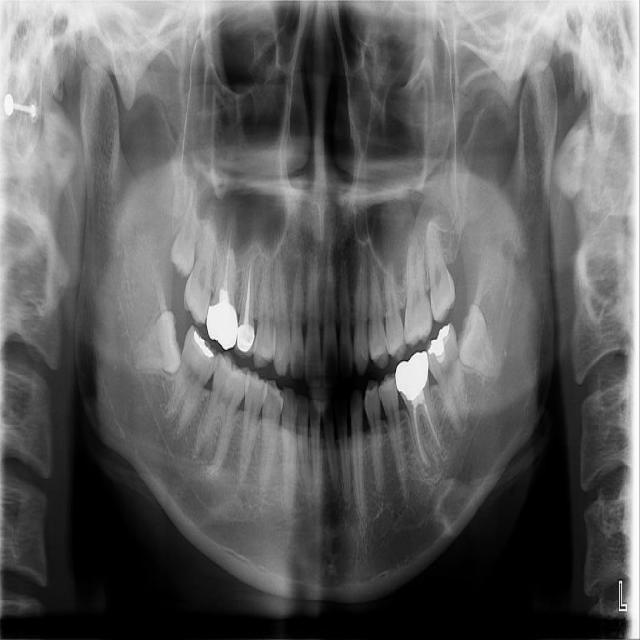3M ESPE Implant: (169, 175, 201, 278)
52: (164, 323, 229, 389), (420, 322, 463, 384), (394, 351, 431, 406), (206, 295, 238, 350), (233, 316, 259, 360)
73: (402, 388, 450, 471), (213, 210, 238, 303), (239, 246, 259, 324), (606, 566, 610, 576)
BioHorizons Implant: (422, 212, 459, 324)
Biomet 3i Implant: (444, 302, 504, 388)
Blue Sky Bio Implant: (420, 321, 474, 439)
Caries: (181, 209, 220, 327)
Implant: (156, 324, 226, 442)
Keystone Dental Implant: (129, 305, 190, 376)
